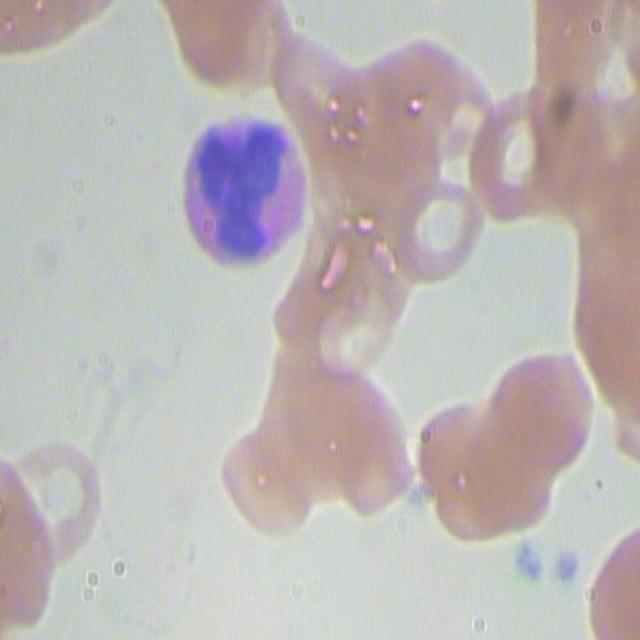RBC: (280, 208, 405, 399), (416, 401, 544, 546), (308, 368, 418, 522), (523, 0, 636, 145), (482, 347, 594, 482), (468, 88, 564, 229), (162, 0, 291, 91), (220, 427, 323, 539), (381, 176, 482, 287), (18, 438, 106, 556), (587, 519, 640, 638)
WBC: (180, 115, 310, 263)
platelets: (512, 540, 549, 586), (548, 546, 584, 590)
